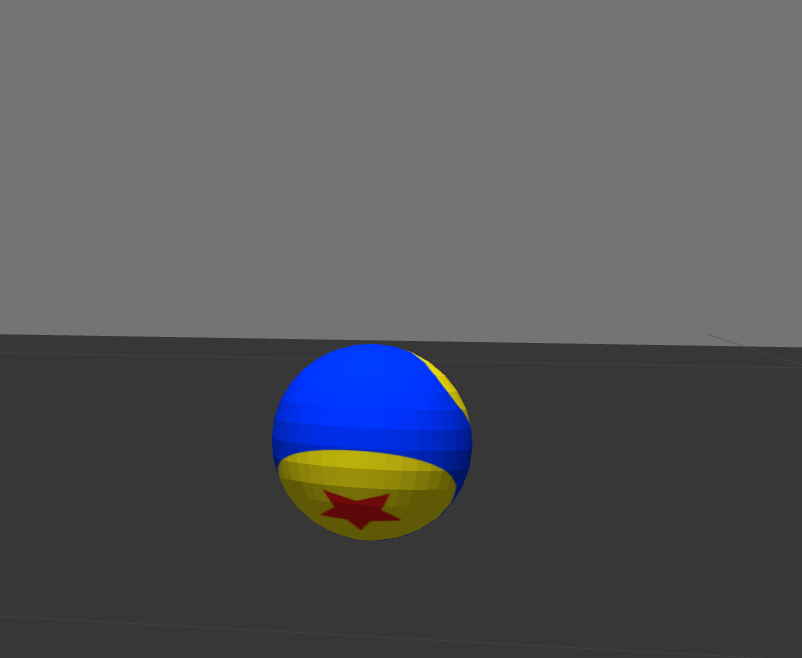toy_story_ball: (271, 344, 473, 540)
